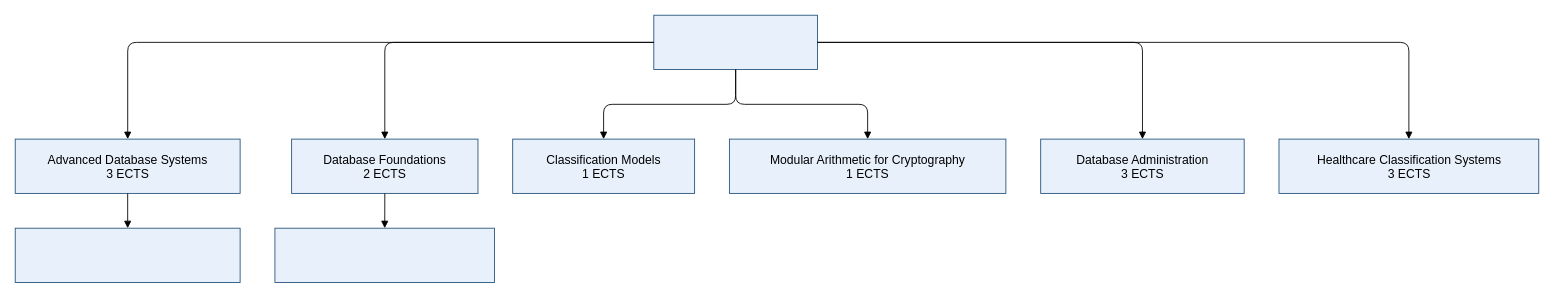
Some shapes in this 1555 by 298 pixel diagram are drawn without their labels. Each missing label, with the centre of its shape:
Database Access and NoSQL 2 ECTS: the point at 384,254
Database Systems 3 ECTS: the point at 735,42
NoSQL Database Engineering 3 ECTS: the point at 127,254
